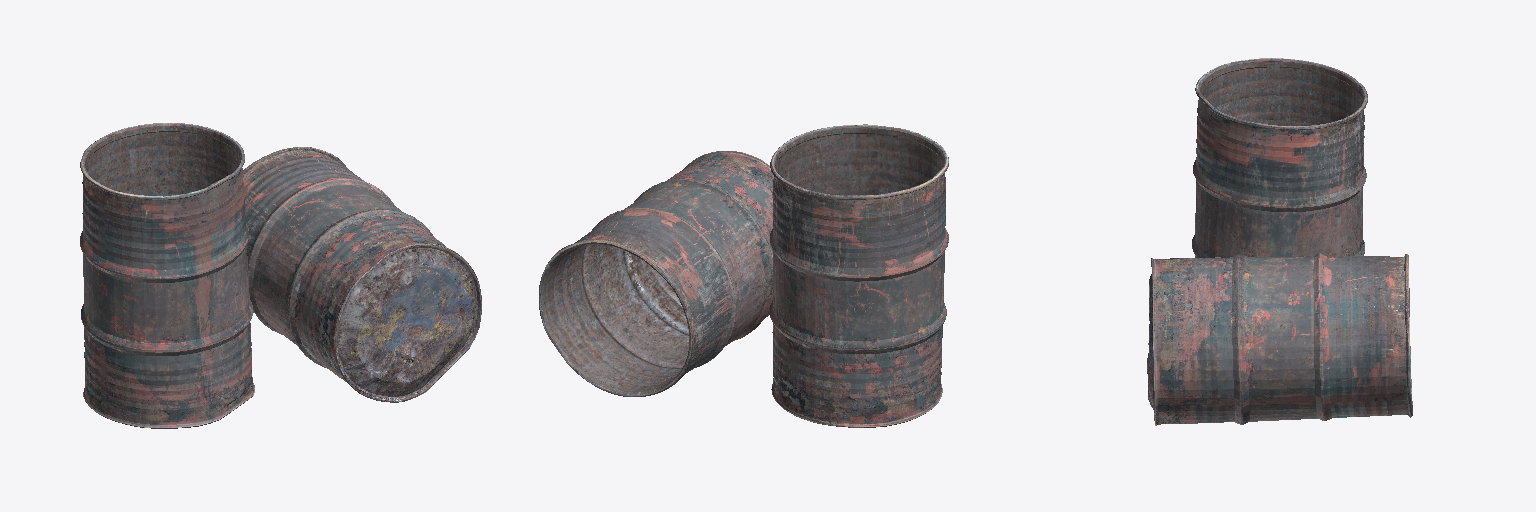
The picture shows the model from 3 angles: view 1: azimuth 30°, elevation 25°; view 2: azimuth 150°, elevation 25°; view 3: azimuth 270°, elevation 25°; orthographic projection.
Parts seen in each view (by area): view 1: sud_low_Mesh.008; view 2: sud_low_Mesh.008; view 3: sud_low_Mesh.008.
Part boxes in pixels (x1,y1,x2,y2): sud_low_Mesh.008: (80, 123, 481, 428); sud_low_Mesh.008: (539, 124, 948, 427); sud_low_Mesh.008: (1147, 58, 1412, 425).
Size of the model in its own units: 0.7204 by 0.5007 by 0.499.
Materials: 1 (1 with a texture image).